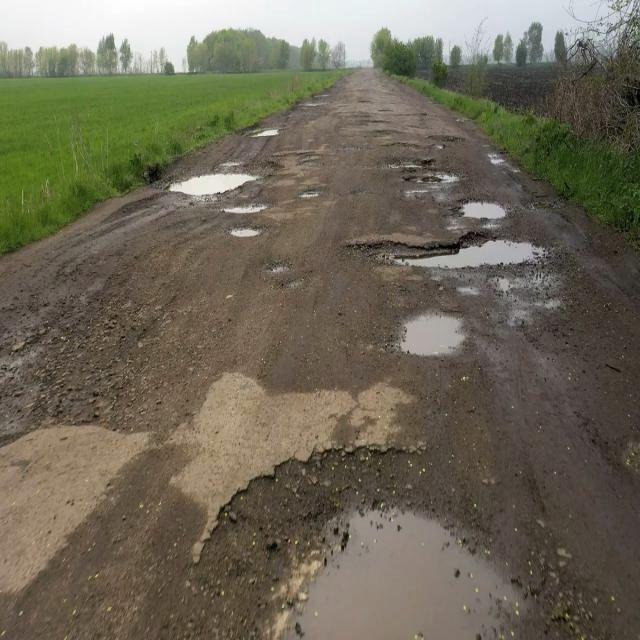Pothole: (264, 474, 548, 637), (2, 305, 160, 421), (379, 297, 482, 361), (385, 232, 547, 268), (170, 158, 267, 196), (394, 160, 464, 193), (444, 194, 520, 223), (256, 119, 284, 139)
